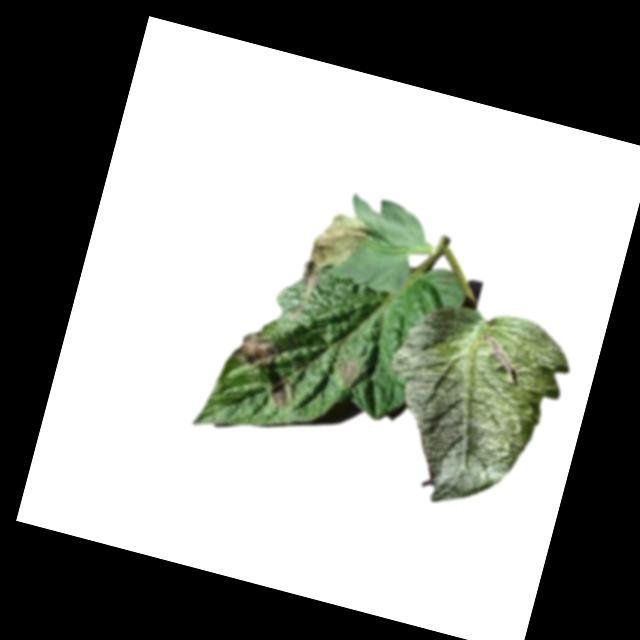Late_blight: (309, 208, 372, 276), (287, 260, 324, 324), (233, 329, 282, 372), (332, 357, 360, 389), (267, 380, 293, 412)
healthy: (360, 288, 577, 526)
